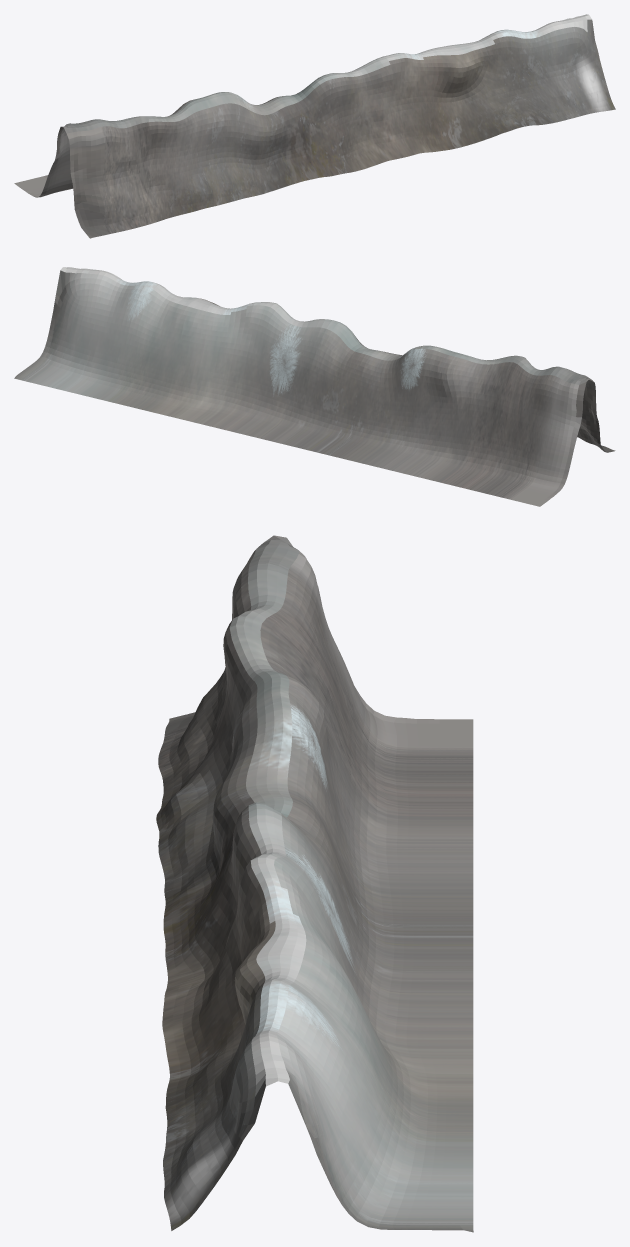
The model's file is Montanha.fbx.
3 views of the same model, one above another, from view 1: azimuth 30°, elevation 25°; view 2: azimuth 150°, elevation 25°; view 3: azimuth 270°, elevation 25° (orthographic). The views are drawn at different scales.
Visible parts, largest first — view 1: a; view 2: a; view 3: a.
Boxes of the visible parts, x1,y1,x2,y2 form: a: (14, 14, 615, 238); a: (14, 267, 615, 506); a: (156, 535, 473, 1232).
Bounding box in the file's own units: 500 × 84.26 × 131.
